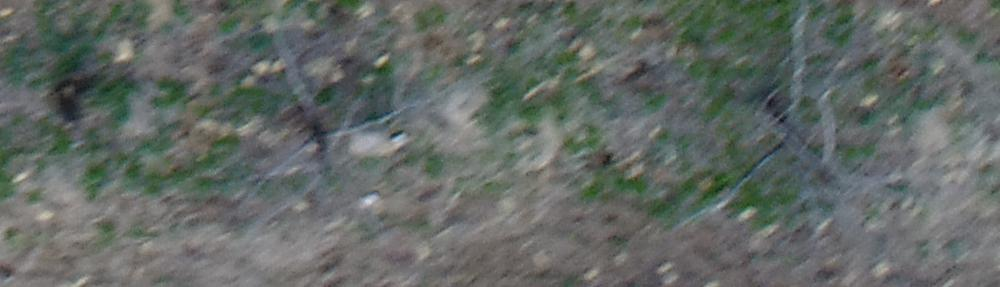apple: (682, 10, 907, 233), (254, 23, 408, 178)
